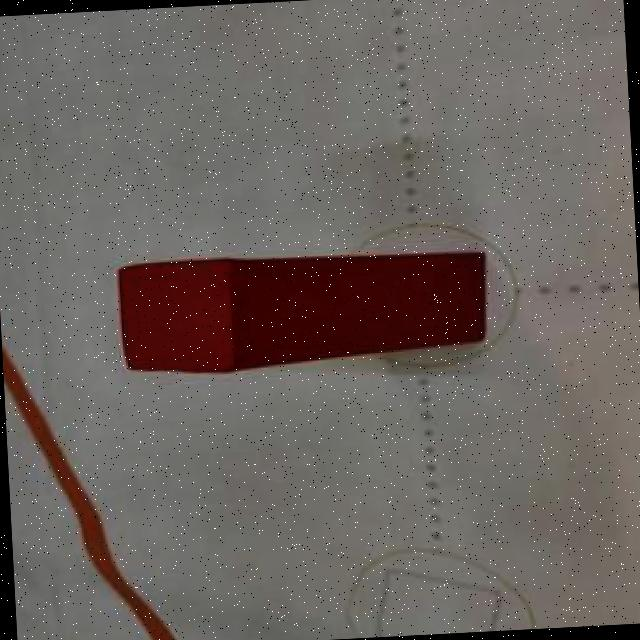redbox: (112, 245, 489, 380)
